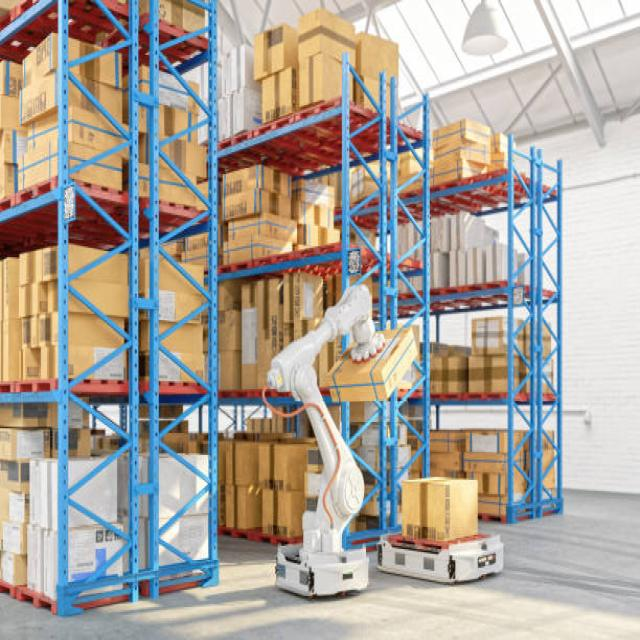Robotic-arm: (258, 278, 383, 612)
